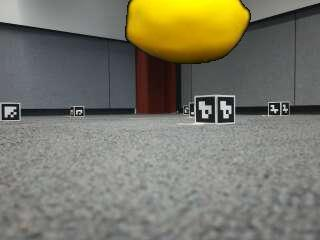lemon: (127, 1, 250, 65)
